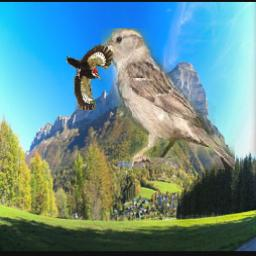Sparrow: (100, 29, 234, 170)
Woodpecker: (67, 44, 115, 111)
